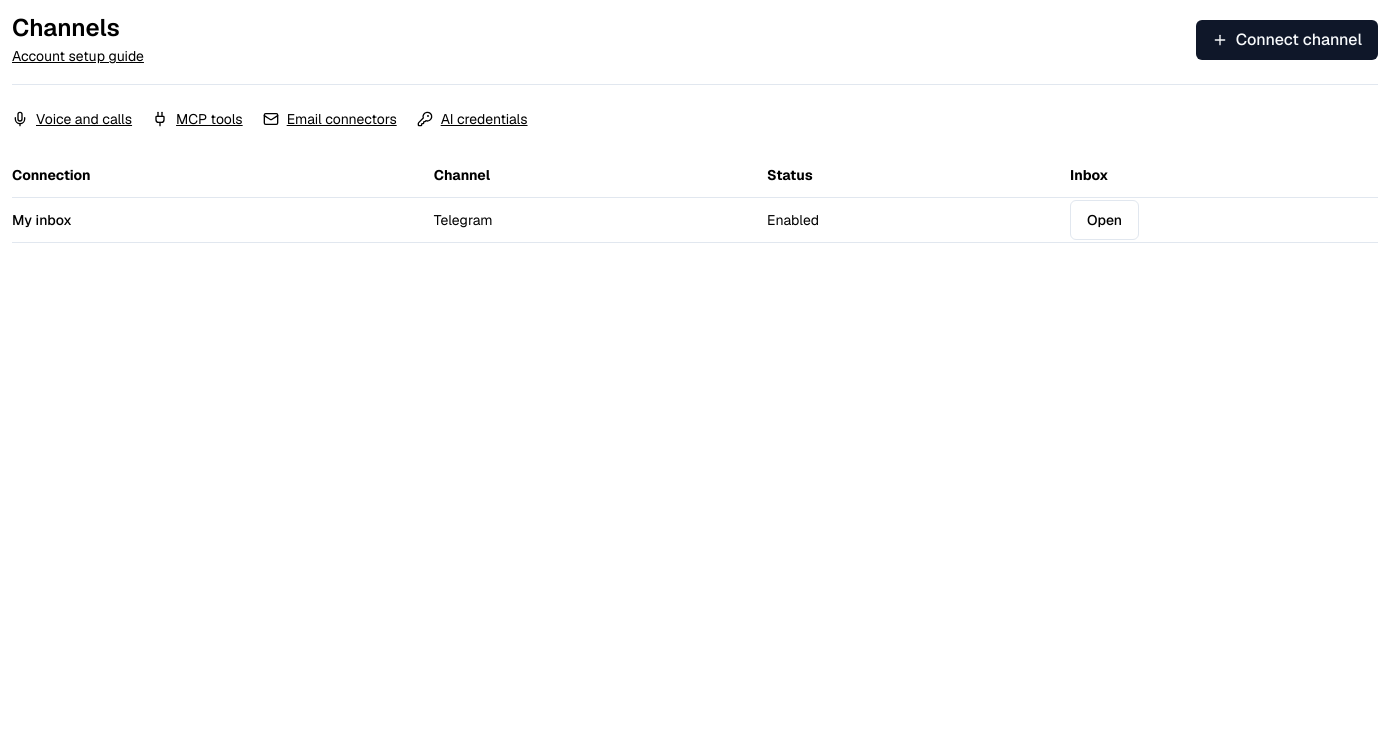
it: BYO channel setup › opts into private Telegram answers and changes only destination/reply settings
Click the button "Open" at (1105, 220), box [1070, 200, 1139, 240]
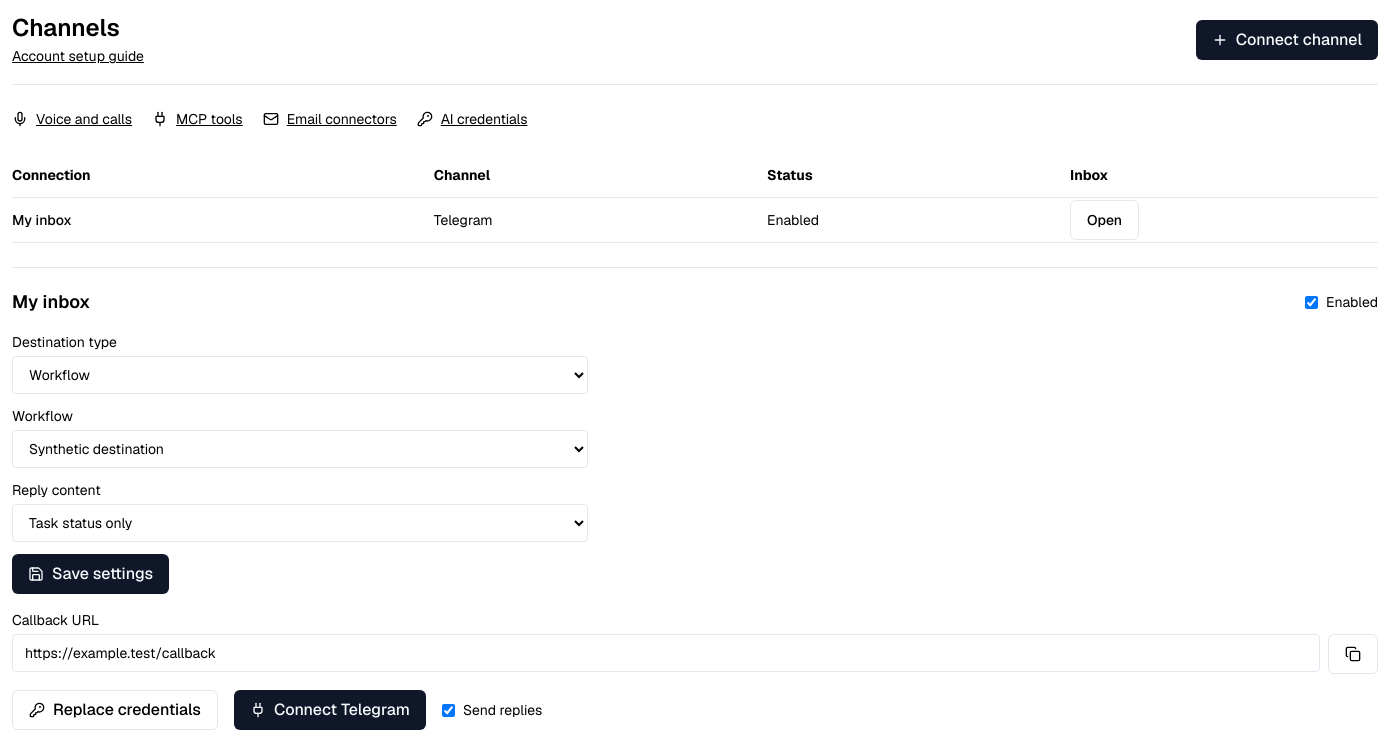
Expected: the option "Agent answer (private linked chats)" is not shown
Select "Agent" in the dropdown labelled "Destination type" at (300, 375), box [12, 356, 588, 394]
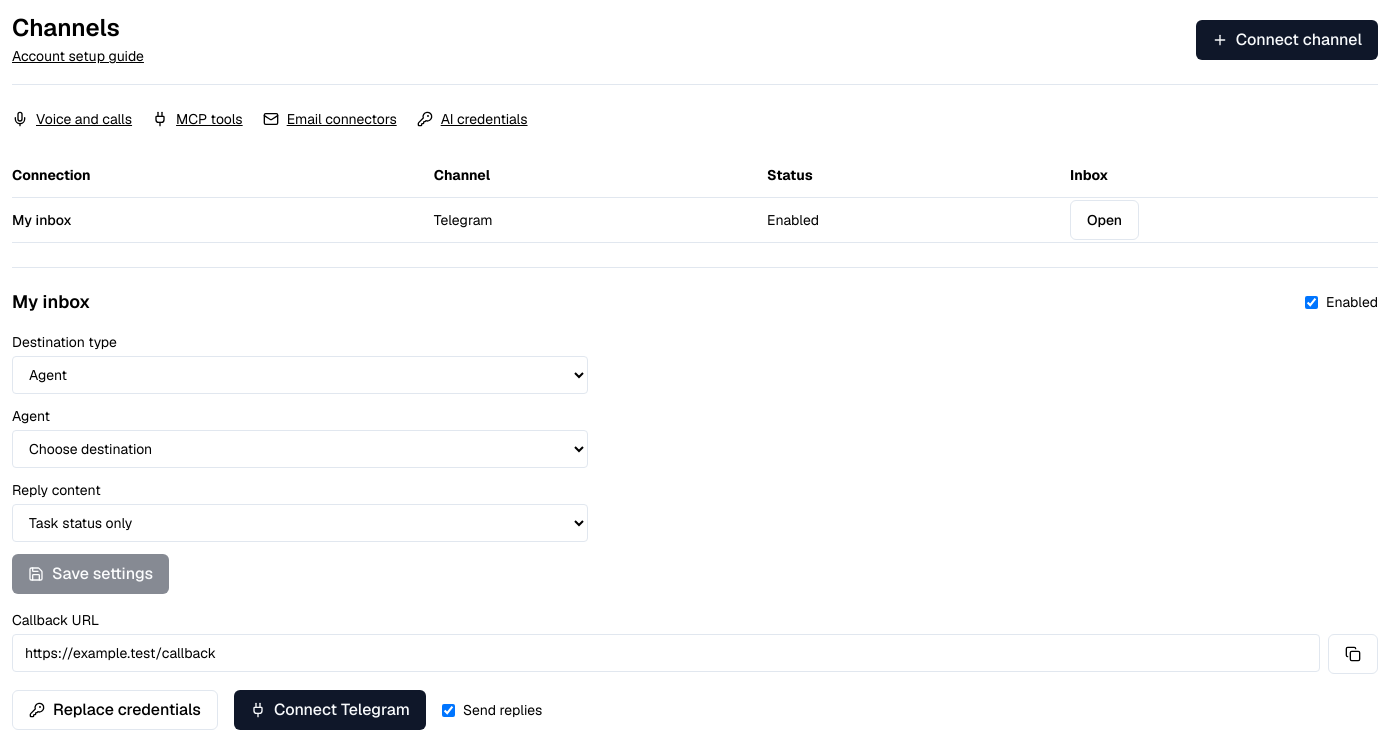
Select "Synthetic destination" in the dropdown labelled "Agent" at (300, 449), box [12, 430, 588, 468]
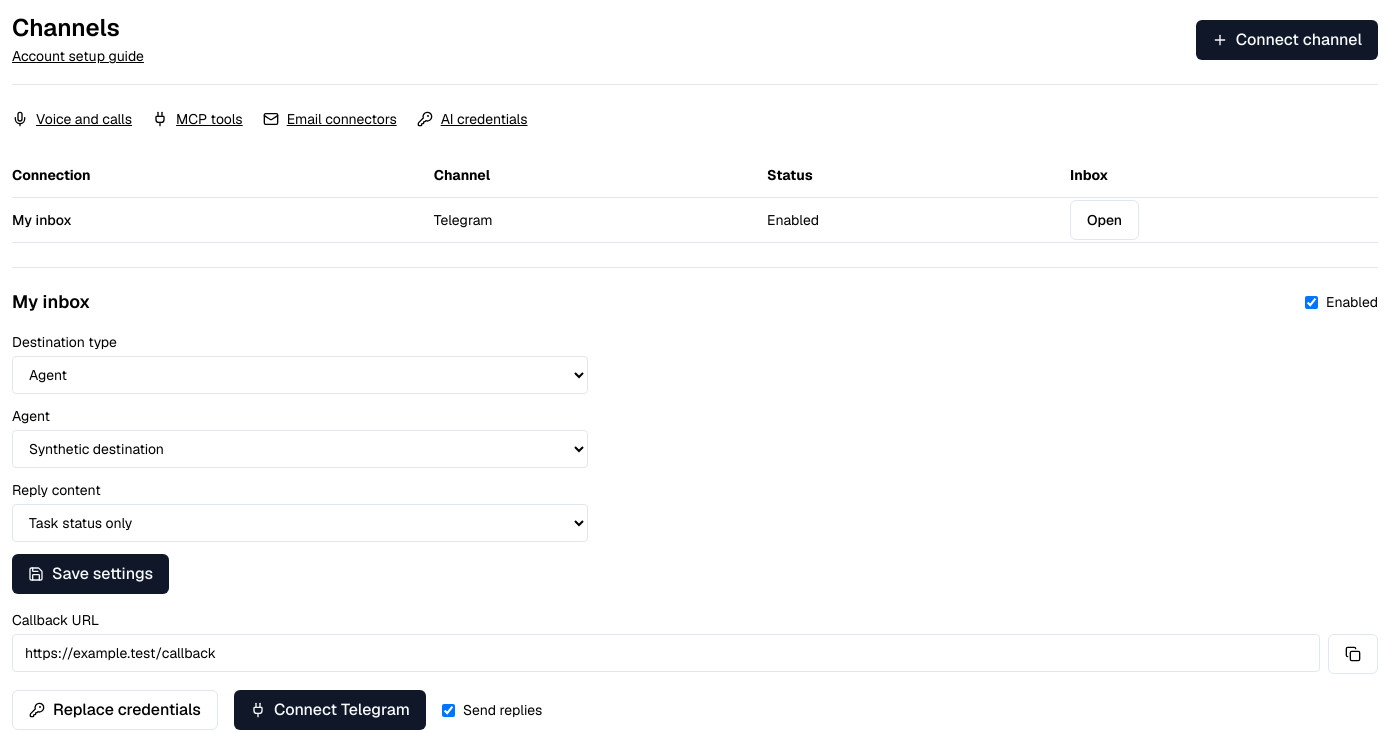
Select "Agent answer (private linked chats)" in the dropdown labelled "Reply content" at (300, 523), box [12, 504, 588, 542]
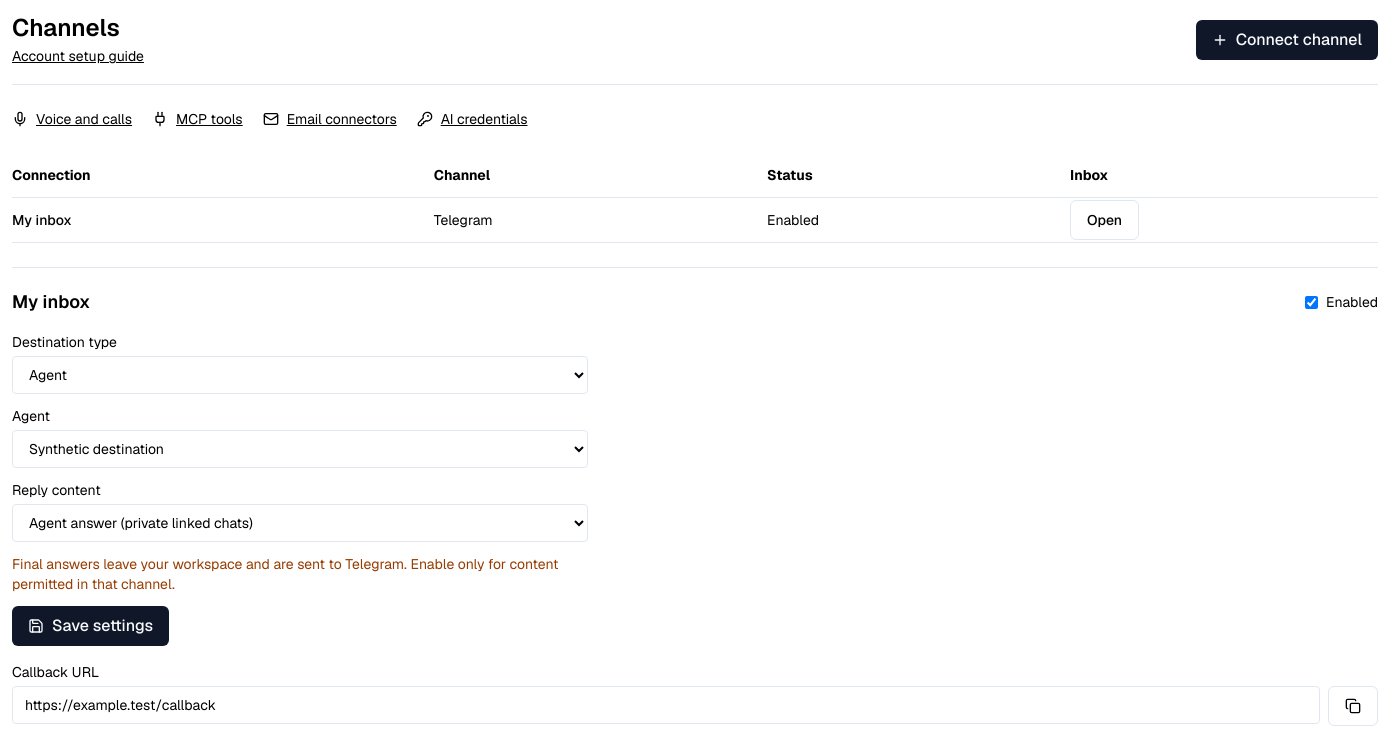
Expected: the text "Final answers leave your workspace" is shown, [12, 555, 559, 593]
Click the button "Save settings" at (91, 626), box [12, 606, 169, 646]
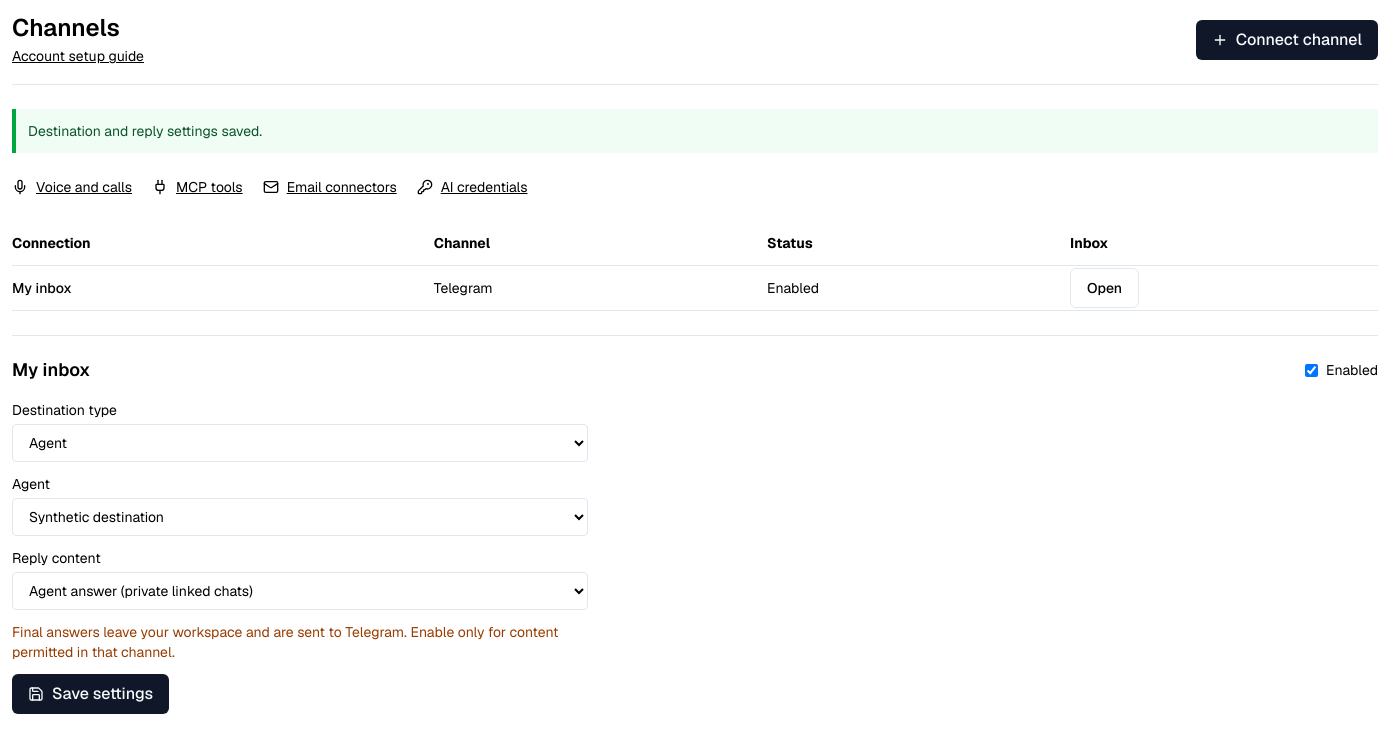
Expected: the message shows "settings saved", [28, 122, 262, 140]
